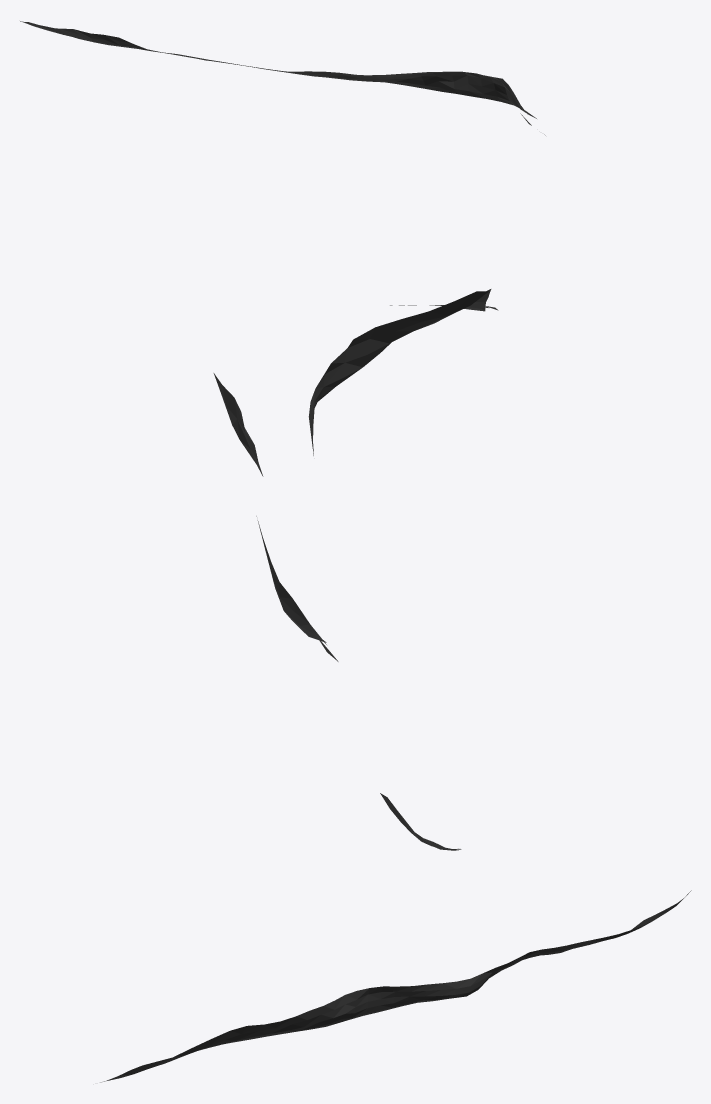
The model's file is eq_dist_limb_Frog.glb.
3 renders of one model, top to bottom at view 1: azimuth 30°, elevation 25°; view 2: azimuth 150°, elevation 25°; view 3: azimuth 270°, elevation 25°, orthographic. The views are drawn at different scales.
Parts seen in each view (by area): view 1: eq_dist_limb_Frog; view 2: eq_dist_limb_Frog; view 3: eq_dist_limb_Frog.
Boxes of the visible parts, x1,y1,x2,y2 form: eq_dist_limb_Frog: (20,21,545,135); eq_dist_limb_Frog: (213,289,498,850); eq_dist_limb_Frog: (100,890,691,1082).
Size of the model in its own units: 0.00696 by 0.00132 by 0.0109.
Materials: 1 (1 with a texture image).
